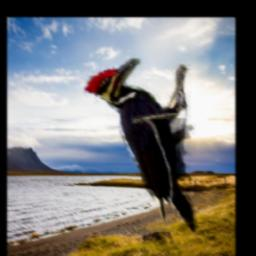Woodpecker: (85, 59, 198, 233)
